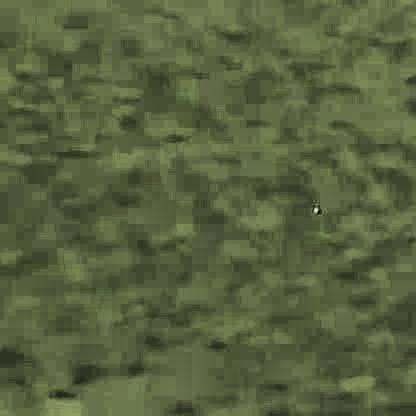golfball: (309, 204, 319, 211)
